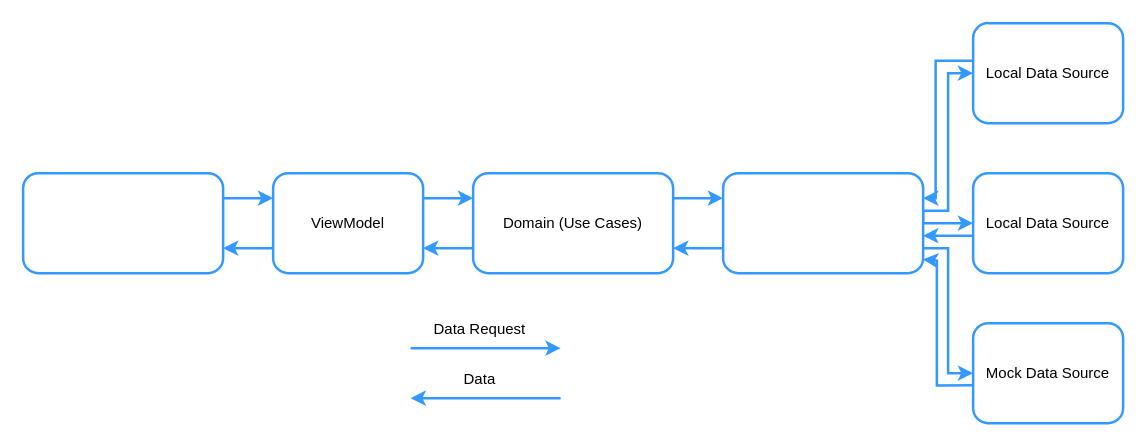
The diagram is 1145 pixels wide and 445 high, and some of its shapes have lost their labels. Here are the shapes that lost their labels. From the top down, the box of each, then its label:
(21, 171, 224, 274): View (Activity / Fragment)
(721, 171, 924, 274): Data Repository
